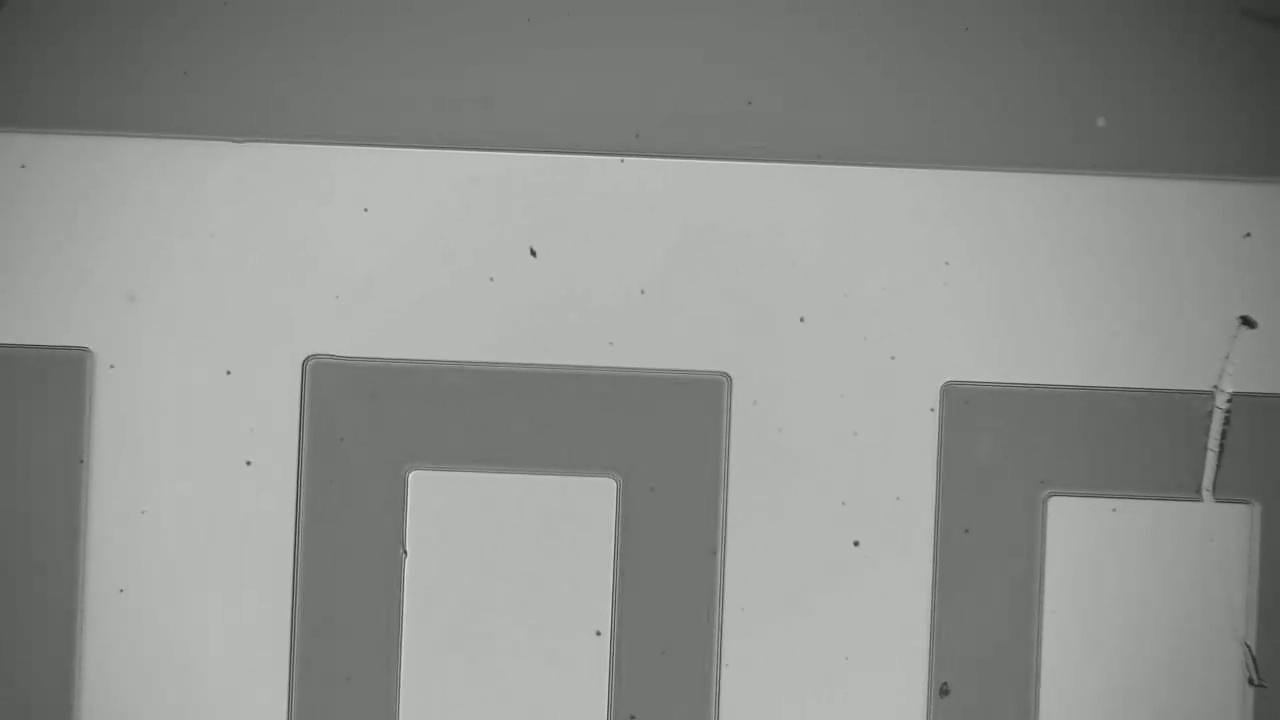Short_circuit: (1161, 369, 1257, 532)
